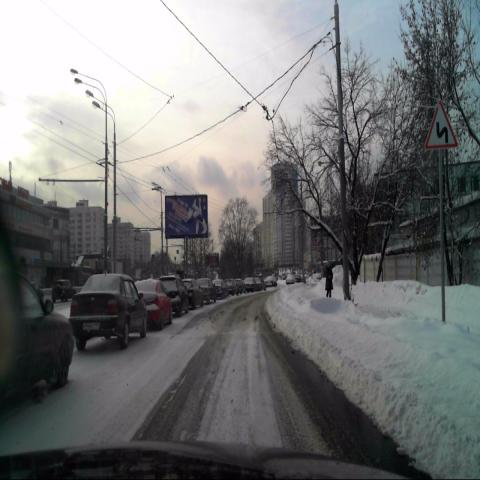1_12_2: (426, 99, 458, 150)
